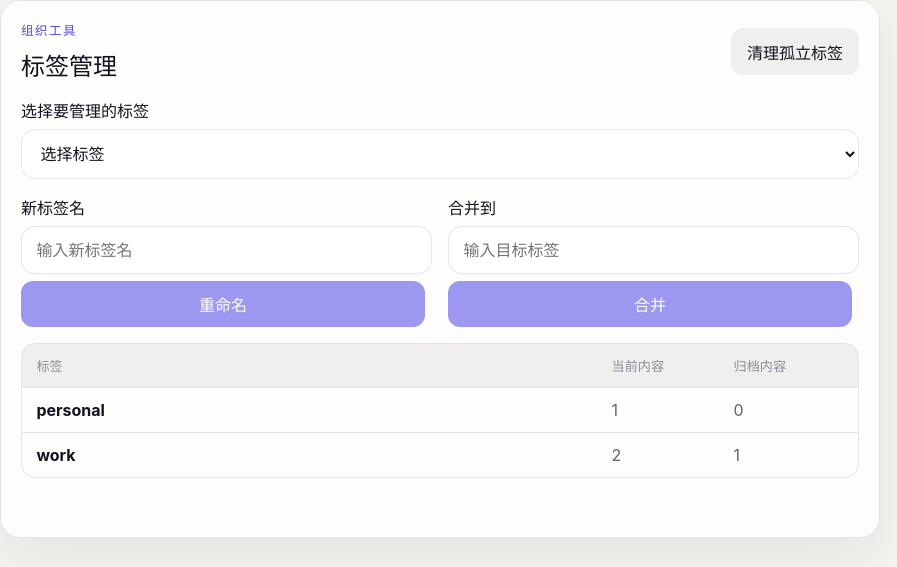
Test: TagManager › merges a selected tag into the target tag
Step 1. Select "personal" in the dropdown named "选择标签" → (440, 154), box [21,129,859,179]
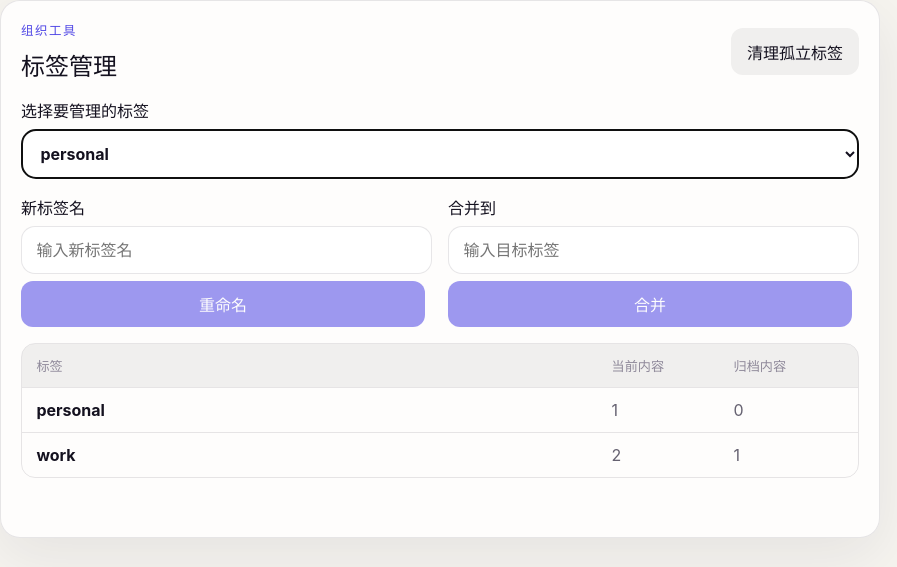
Step 2. Type "work" into the field named "合并目标" → (654, 250), box [448,226,859,274]
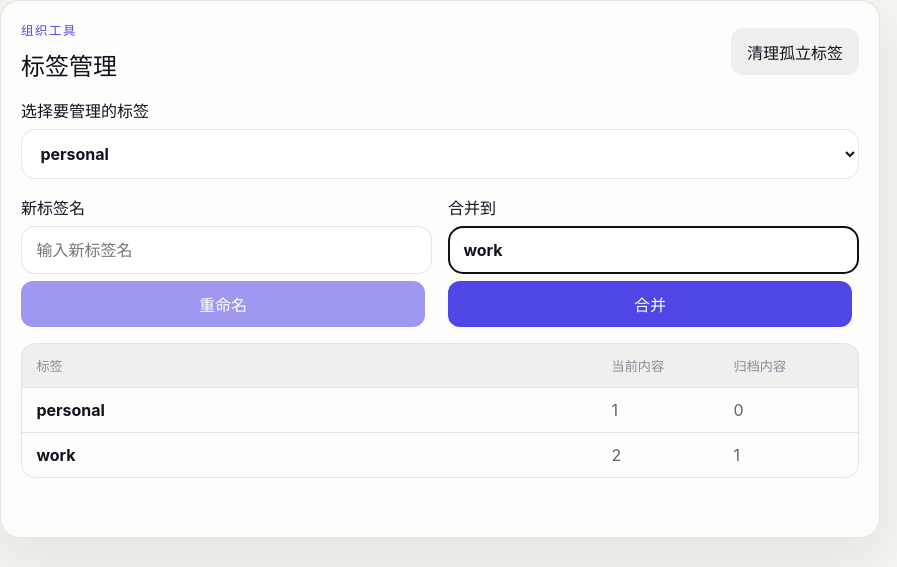
Step 3. Click the button "合并" → (650, 304), box [448,281,852,327]
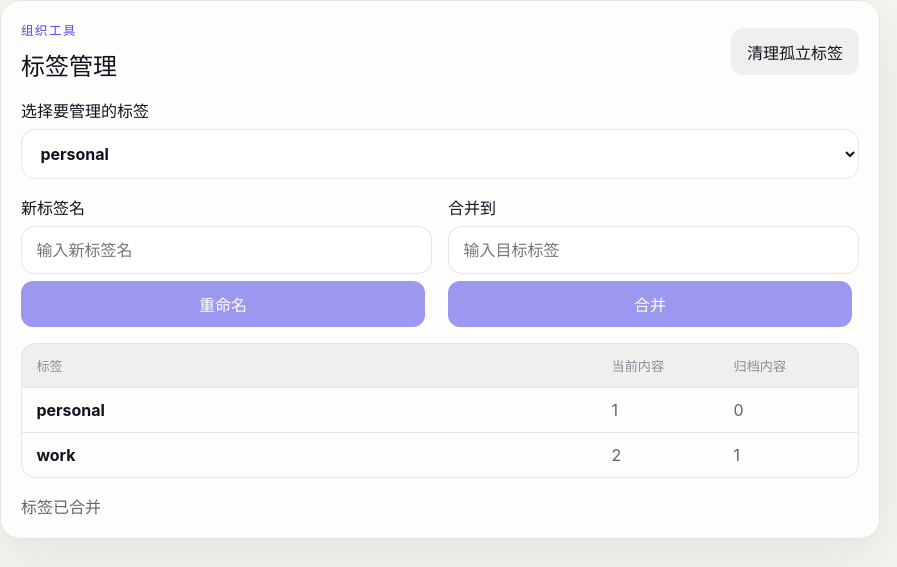
Check: the text "标签已合并" is shown, box [21,497,101,517]
